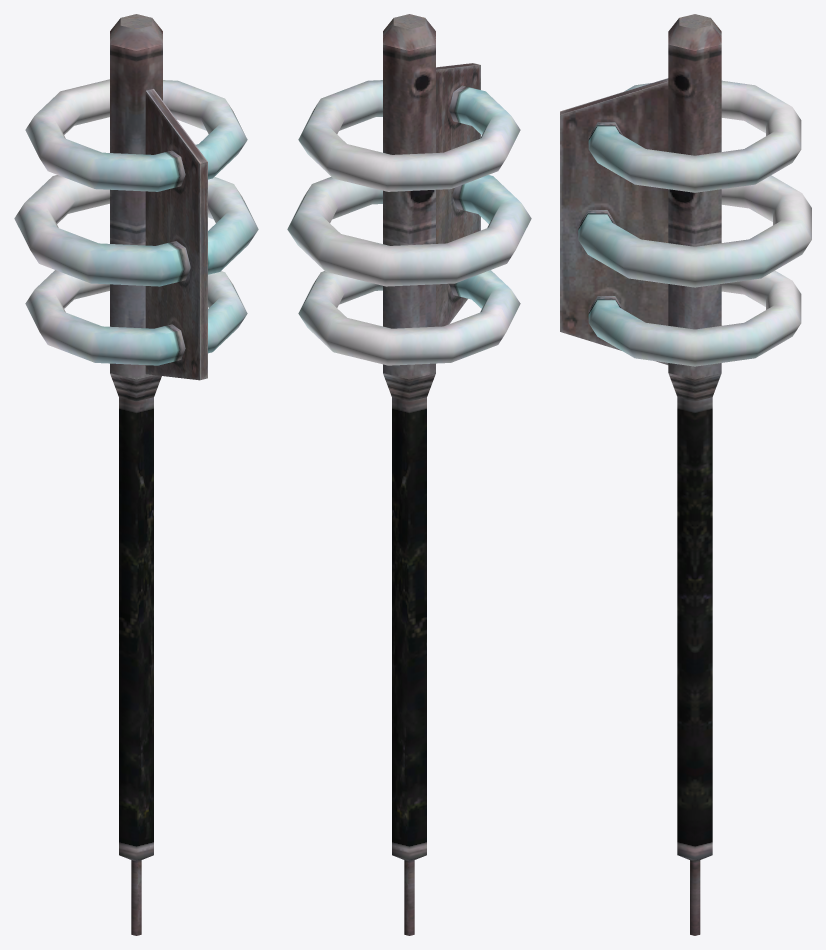
File: frn_all_lamp_free_s1_l0.fbx
The picture shows the model from 3 angles, left to right: view 1: azimuth 30°, elevation 25°; view 2: azimuth 150°, elevation 25°; view 3: azimuth 270°, elevation 25°; orthographic projection.
Parts seen in each view (by area): view 1: mesh_node; view 2: mesh_node; view 3: mesh_node.
Part boxes in pixels (<box>): mesh_node: <box>14,14,258,935</box>; mesh_node: <box>287,14,531,935</box>; mesh_node: <box>560,14,811,935</box>.
Size of the model in its own units: 0.3909 by 1.6 by 0.4005.
1 material, 1 textured.
